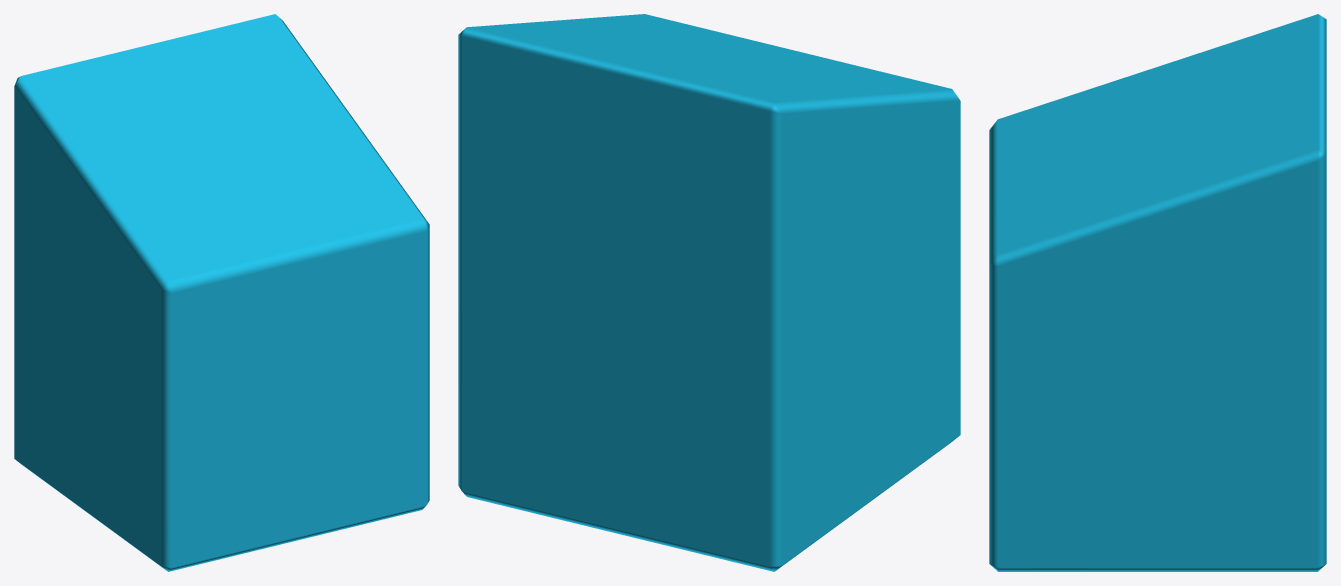
Rendered from SM_ButtonPedestal.FBX.
The picture shows the model from 3 angles, left to right: view 1: azimuth 30°, elevation 25°; view 2: azimuth 150°, elevation 25°; view 3: azimuth 270°, elevation 25°; orthographic projection. The views are drawn at different scales.
Parts seen in each view (by area): view 1: Button Pedestal; view 2: Button Pedestal; view 3: Button Pedestal.
Part boxes in pixels (x1,y1,x2,y2): Button Pedestal: [14, 14, 429, 571]; Button Pedestal: [458, 14, 960, 571]; Button Pedestal: [989, 14, 1326, 571].
Size of the model in its own units: 30.2 by 41.75 by 30.2.
